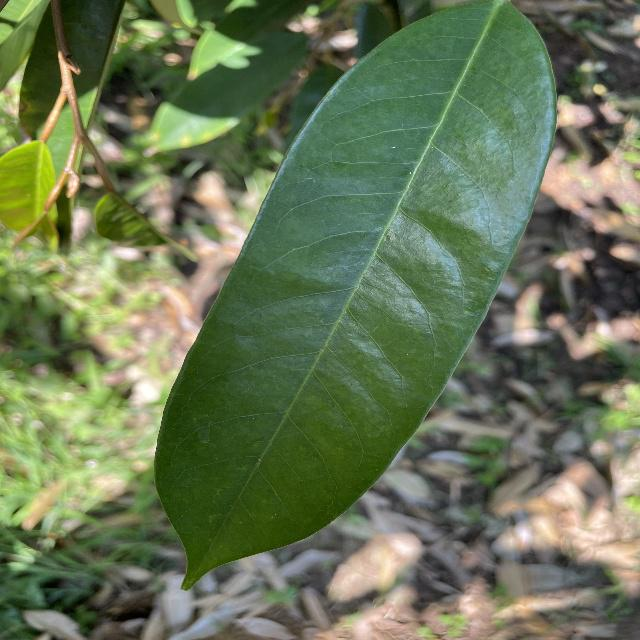No Disease: (145, 0, 566, 596)
